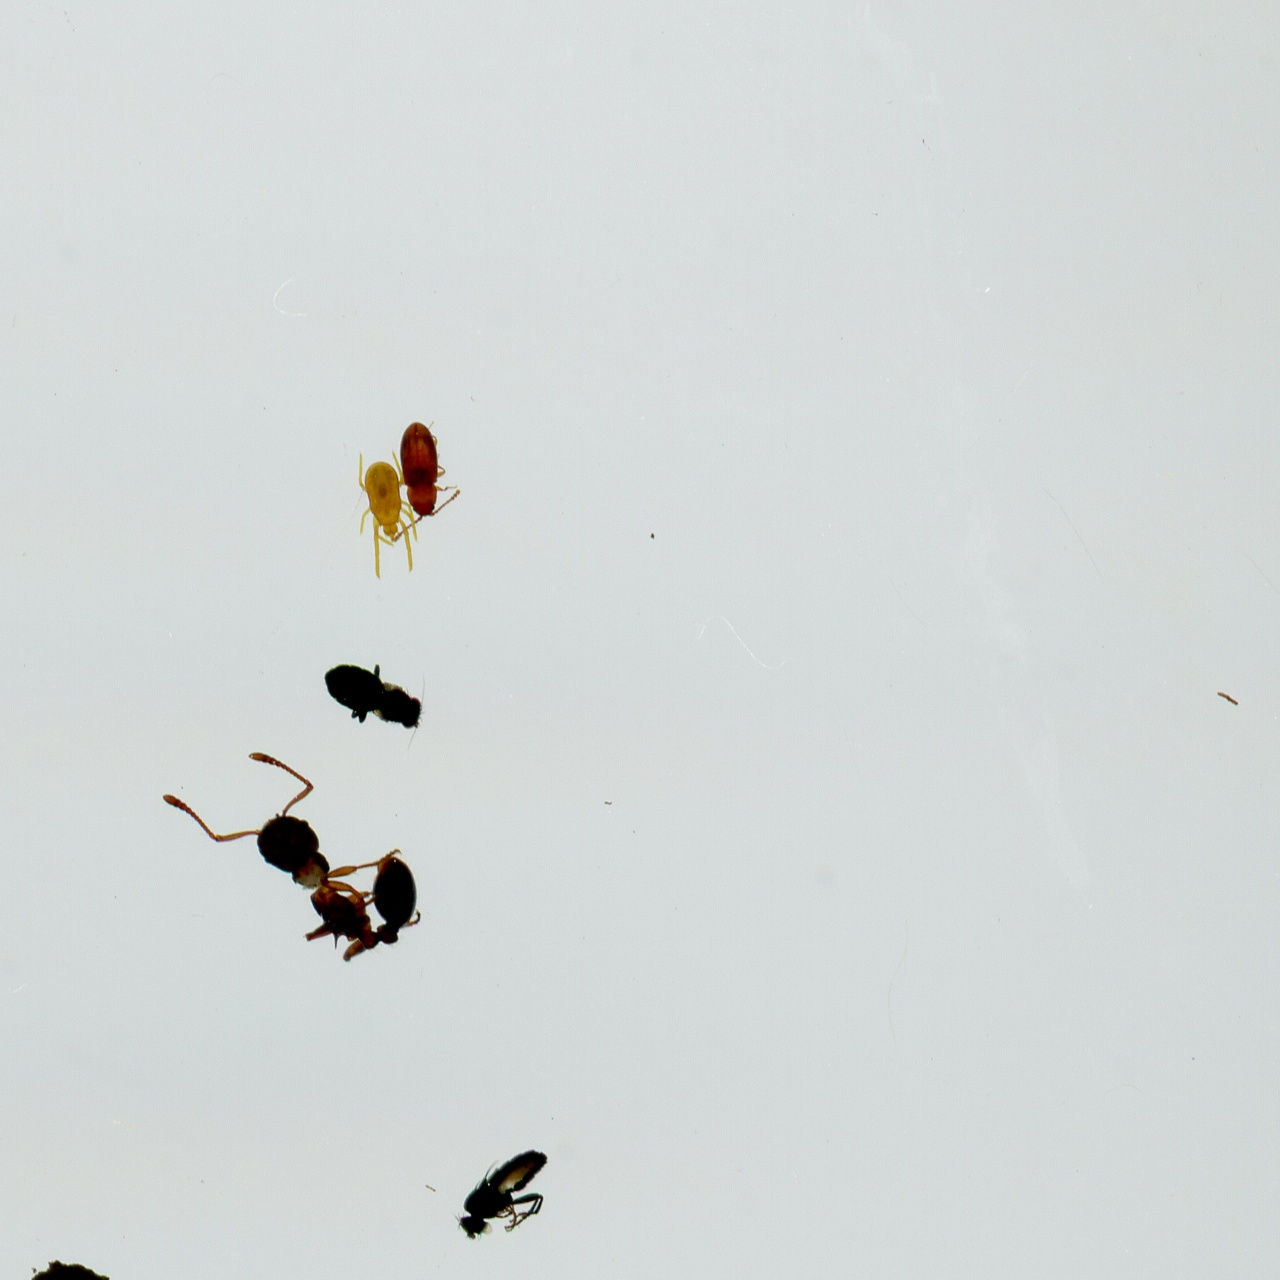arthropod: (159, 744, 427, 966), (435, 1122, 579, 1274), (319, 654, 438, 761), (350, 448, 422, 580), (390, 415, 462, 540)
